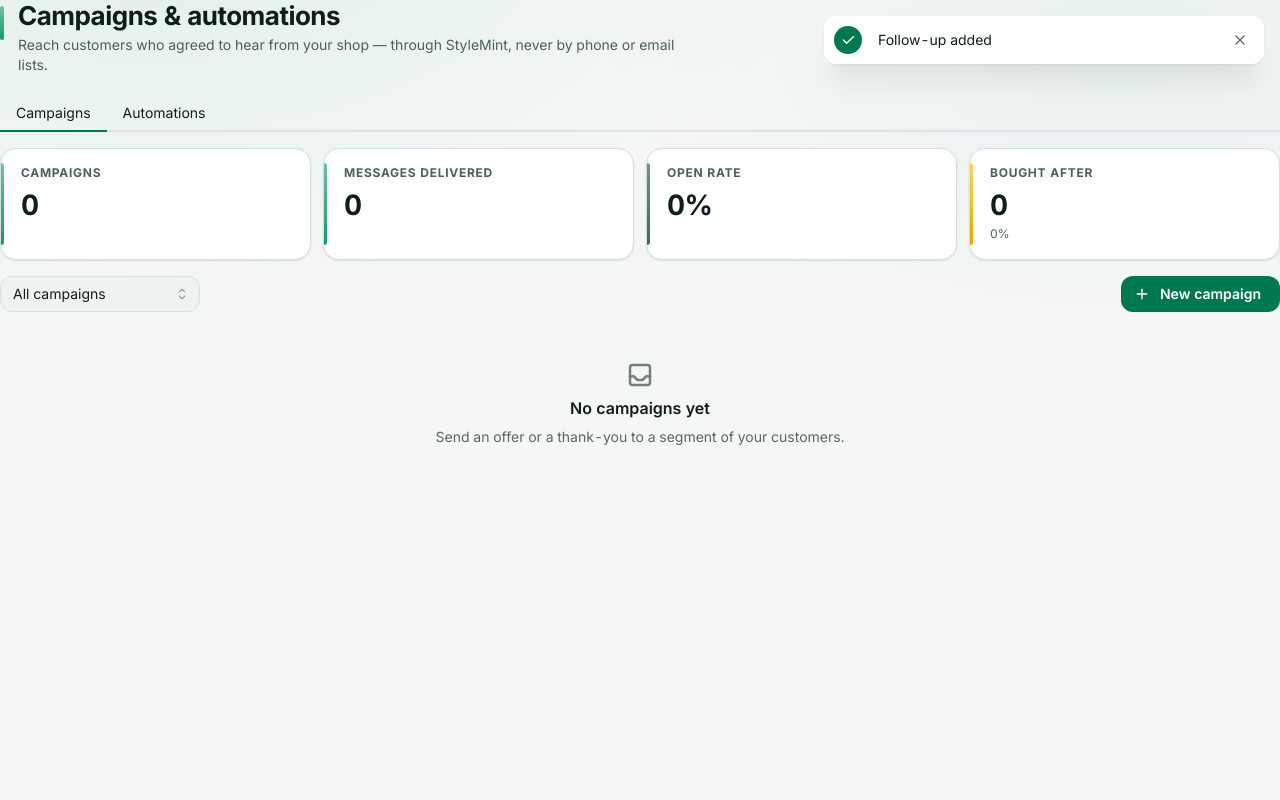
Scenario: campaigns respect consent › says consent is checked at send time when it cannot be counted
Click the button "New campaign" at (1200, 294), box [1121,276,1279,312]
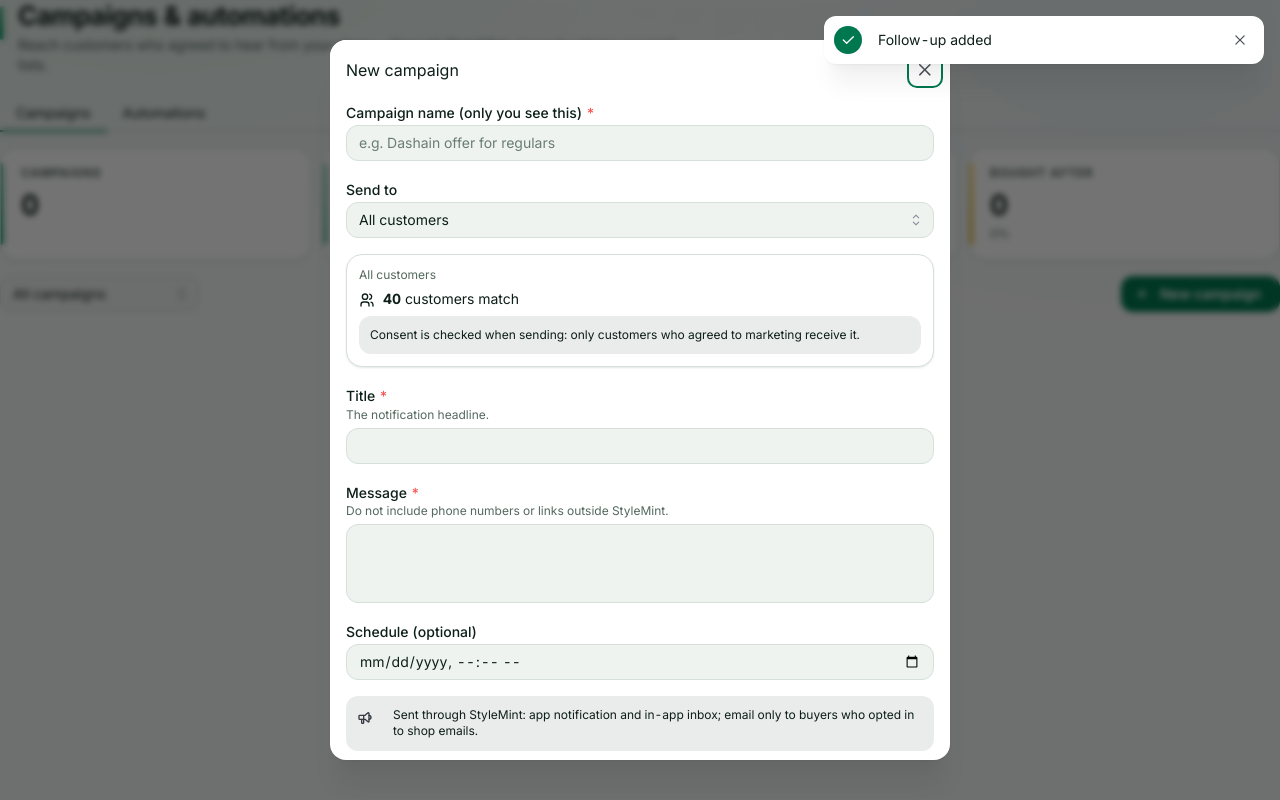
Expected: the message with test id "consent-unknown" shows "only customers who agreed to marketing receive it", [370,327,860,342]
